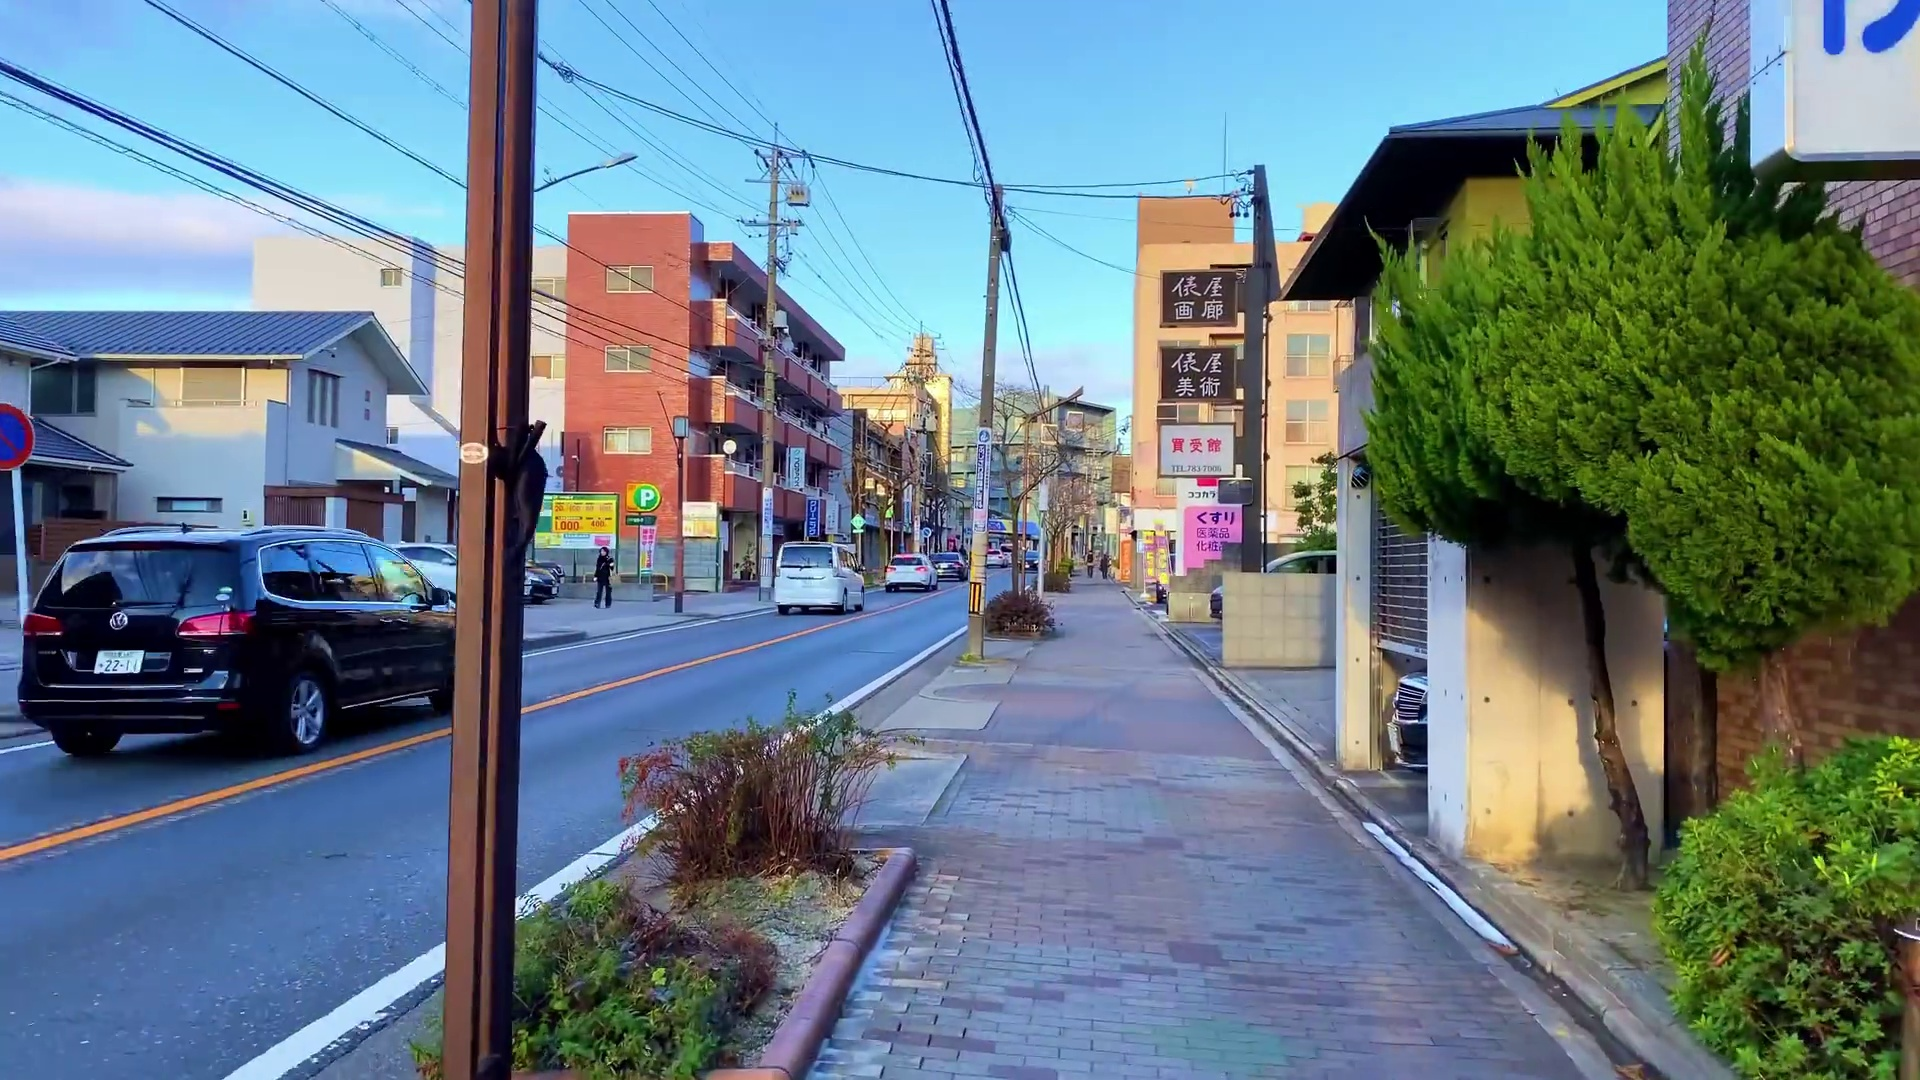car: (18, 522, 451, 765), (769, 538, 866, 622)
